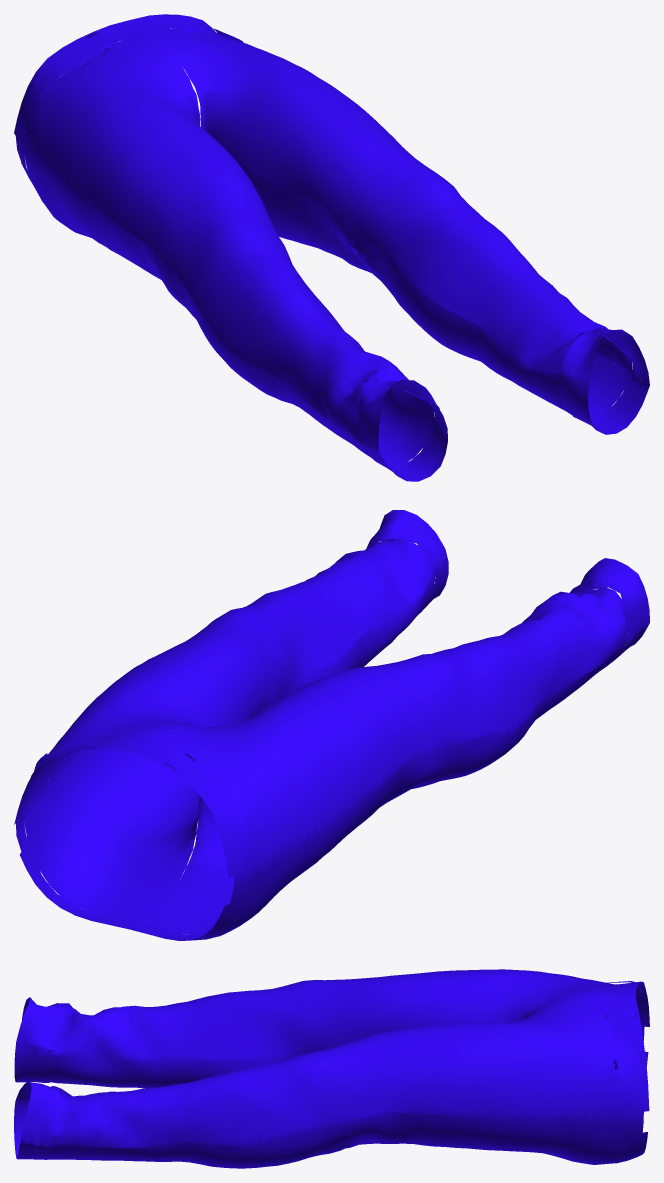
File: mens bottom formal2.glb
3 views of the same model, one above another, from view 1: azimuth 30°, elevation 25°; view 2: azimuth 150°, elevation 25°; view 3: azimuth 270°, elevation 25° (orthographic). The views are drawn at different scales.
Parts seen in each view (by area): view 1: pant; view 2: pant; view 3: pant.
Part boxes in pixels (bbox=[...]): pant: bbox=[14, 14, 649, 481]; pant: bbox=[14, 510, 649, 940]; pant: bbox=[14, 969, 649, 1168].
Bounding box in the file's own units: 23.73 × 14.51 × 57.09.
